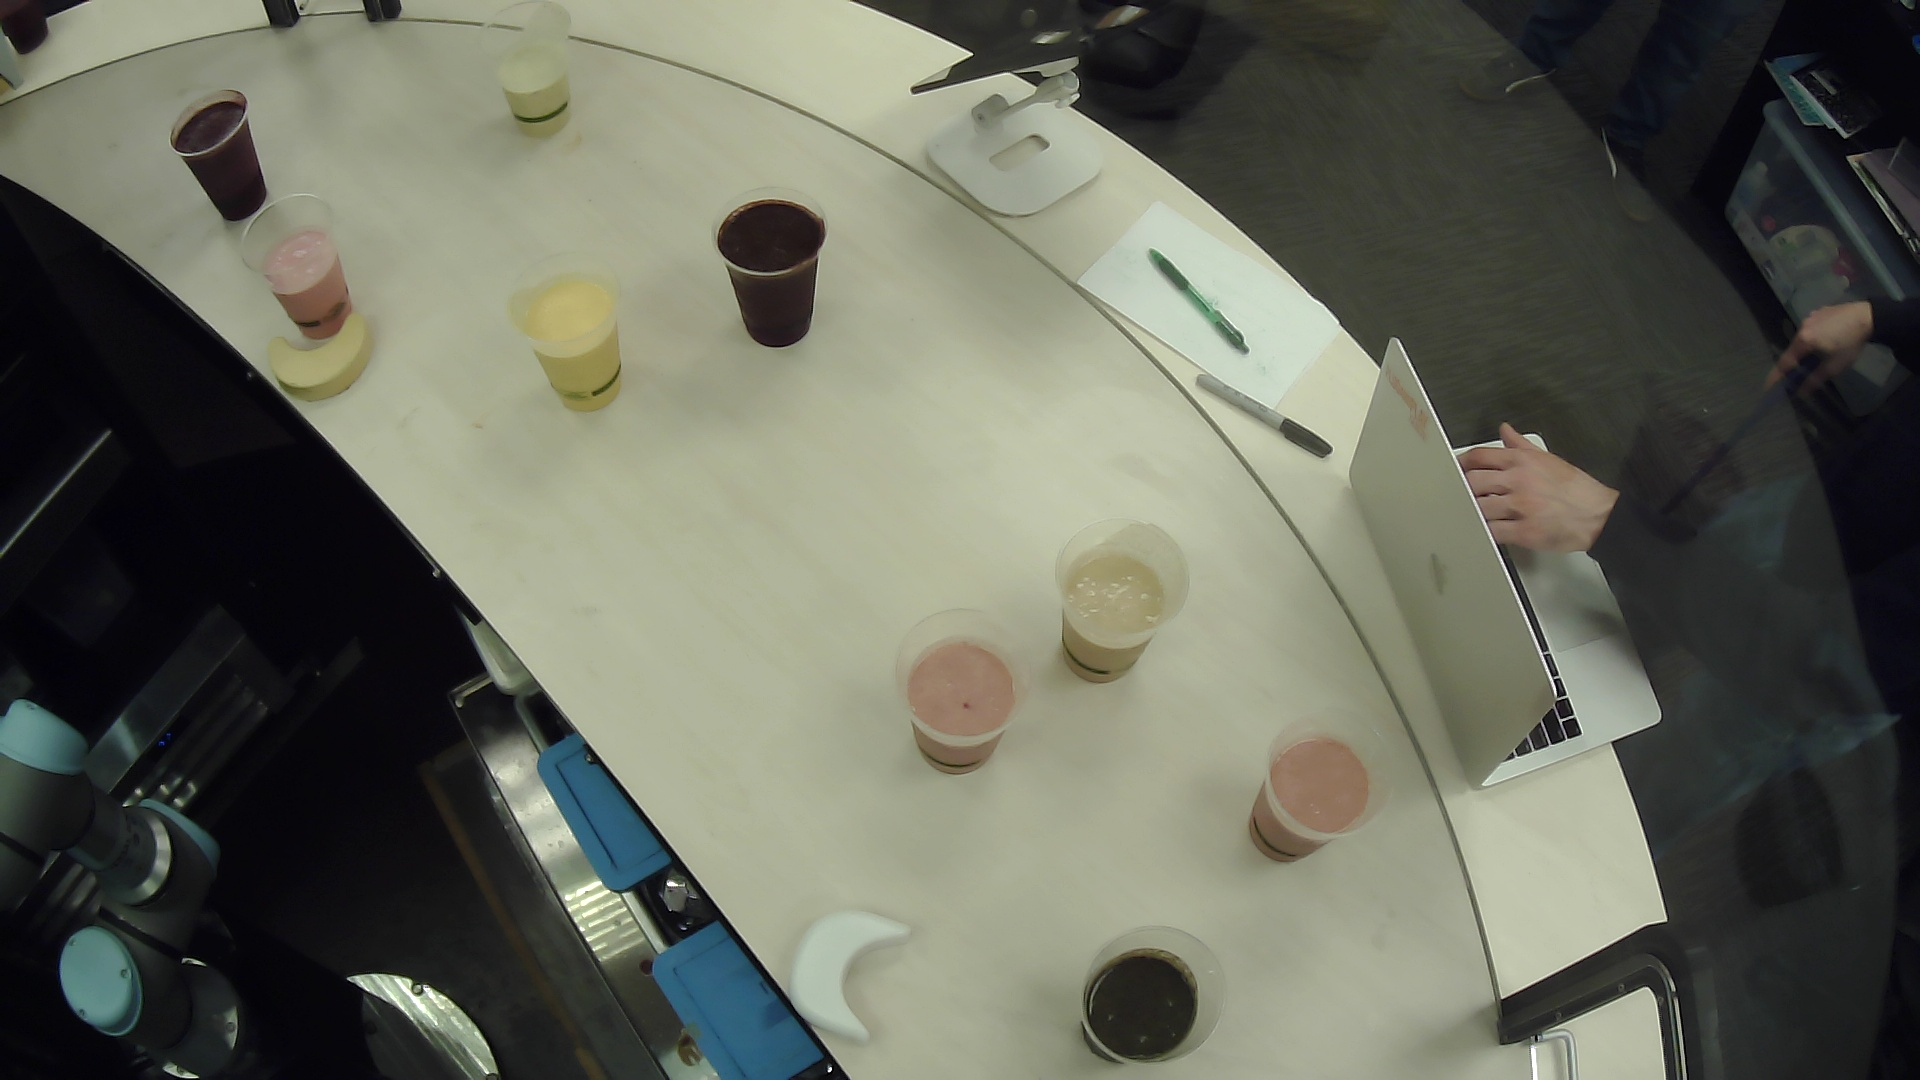Deliver: (782, 887, 938, 1058), (251, 291, 398, 415)
Full_cup: (1212, 704, 1410, 899), (1025, 489, 1195, 702), (870, 596, 1033, 800), (479, 237, 647, 425), (1051, 913, 1249, 1062), (688, 177, 851, 355), (224, 182, 378, 356), (144, 74, 291, 225), (475, 1, 589, 158)
